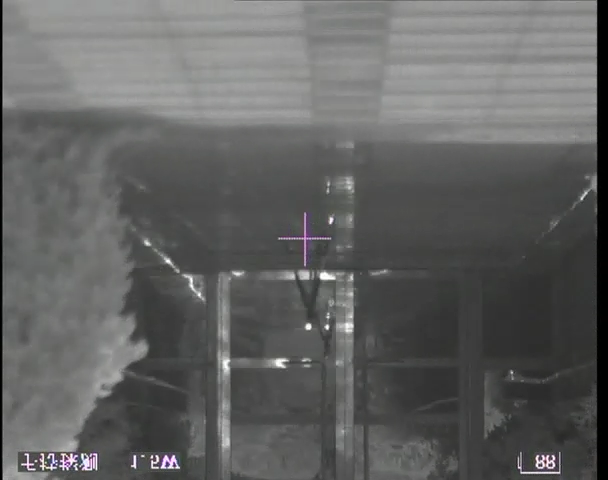my: (304, 322, 313, 332)
